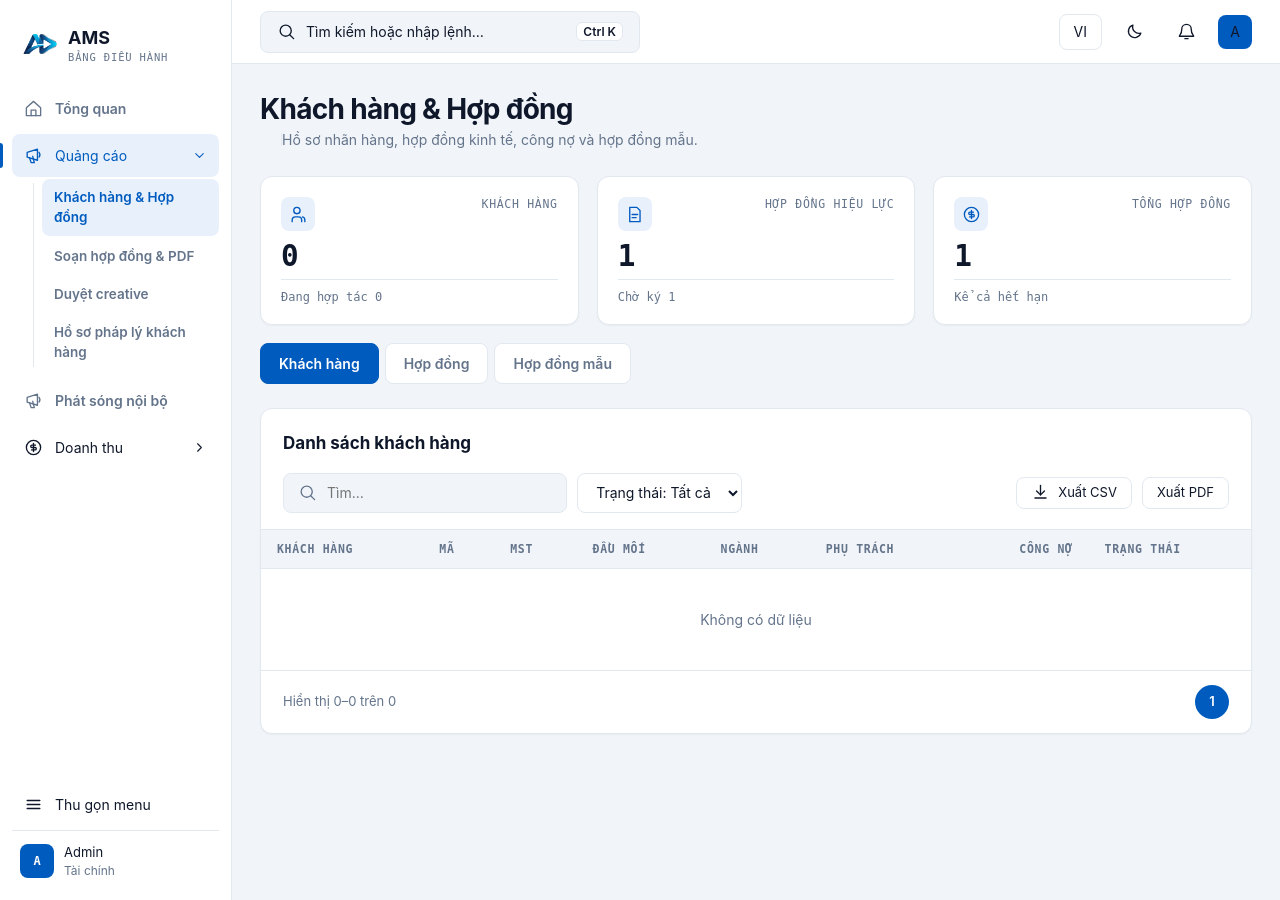
Test: u1: dong gia hop dong › finance:approve thay danh sach (giá cố định + CPM), bao gia hieu luc co nguon va nang len san
Click the button "Hợp đồng" at (437, 364), box [385,343,488,384]
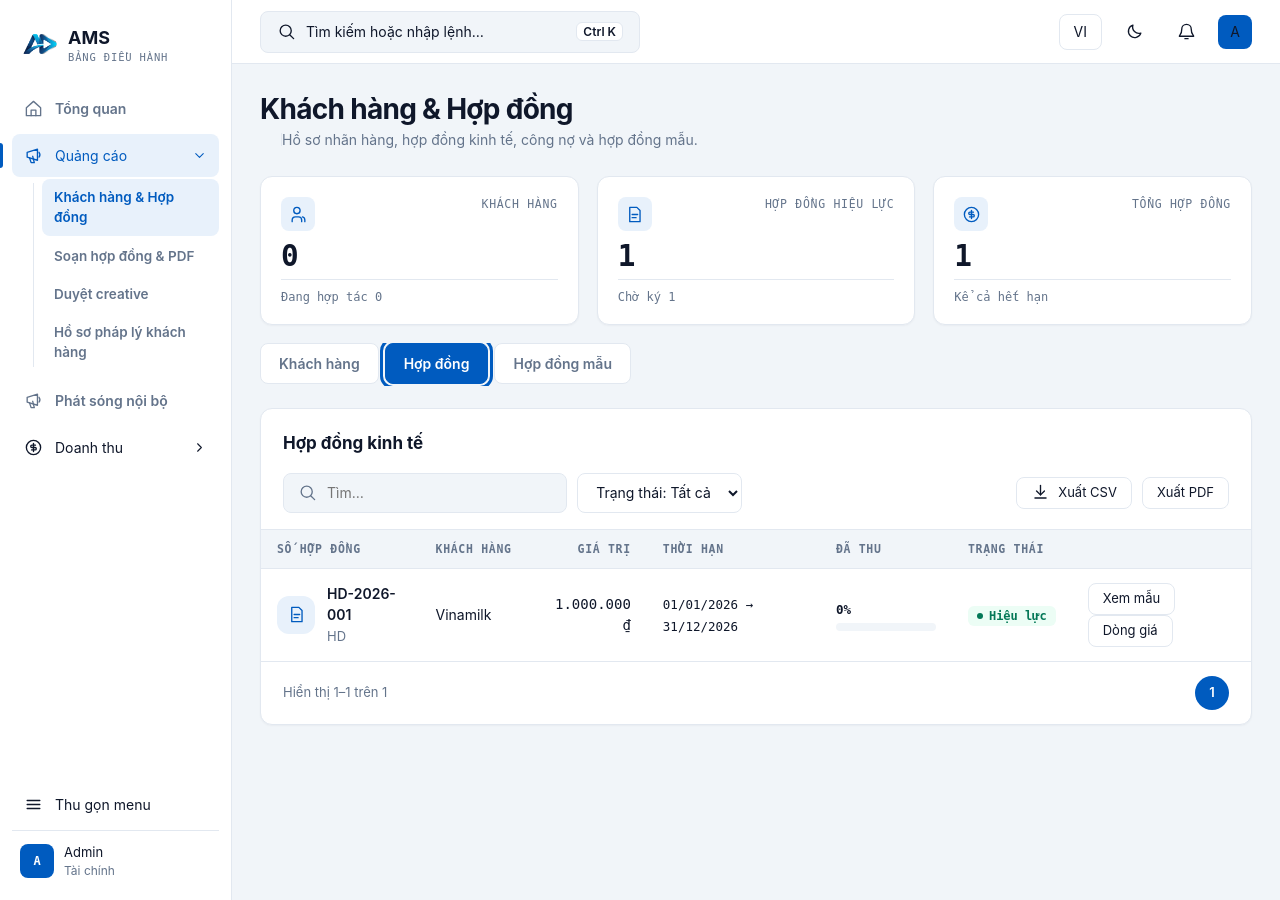
Click the button "Dòng giá" at (1130, 630), box [1088,614,1173,646]
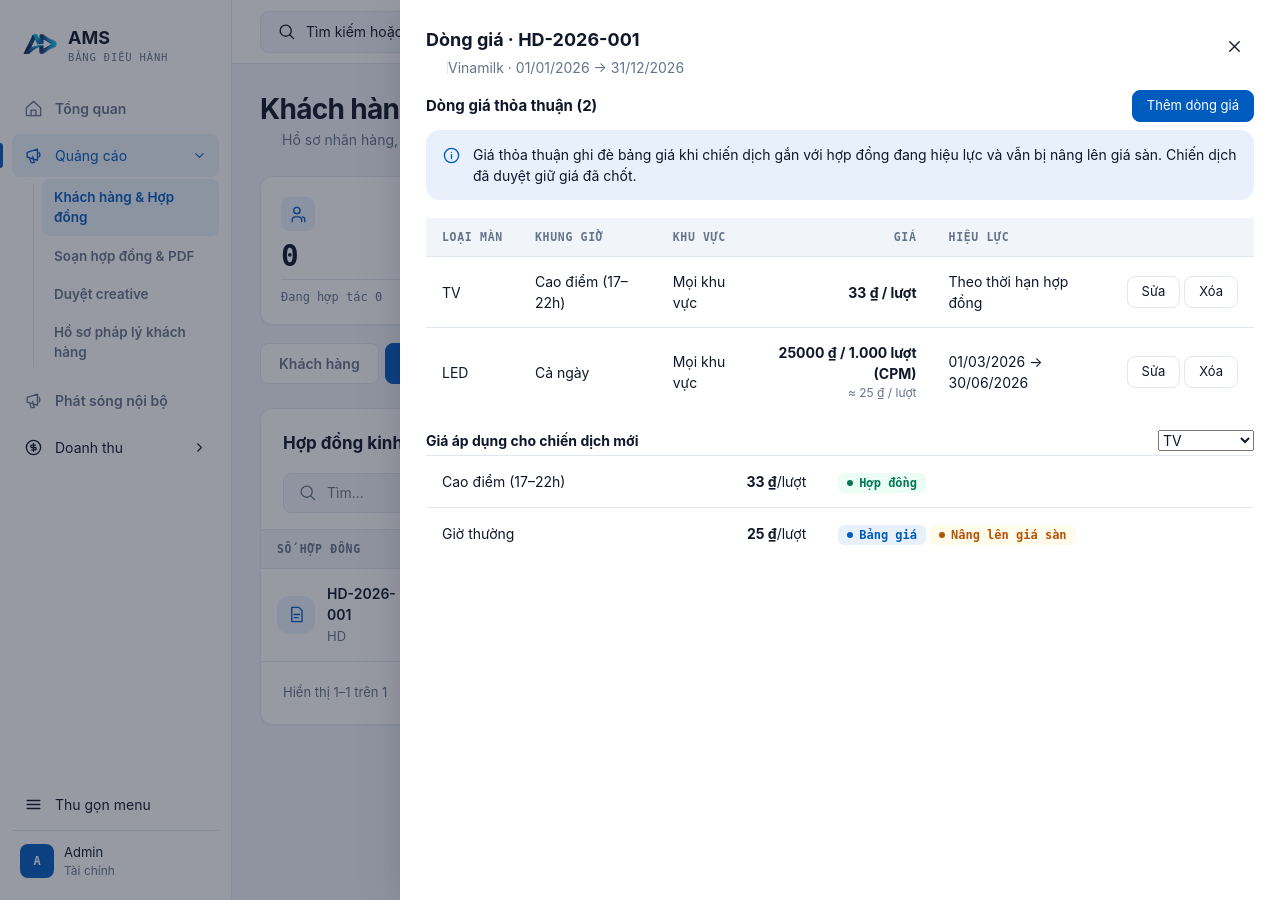
Expected: the text "33 ₫ / lượt" is shown, [848,284,916,300]
Expected: the text "25000 ₫ / 1.000 lượt (CPM)" is shown, [779,344,917,382]
Expected: the button "Thêm dòng giá" is shown, [1132,90,1254,122]
